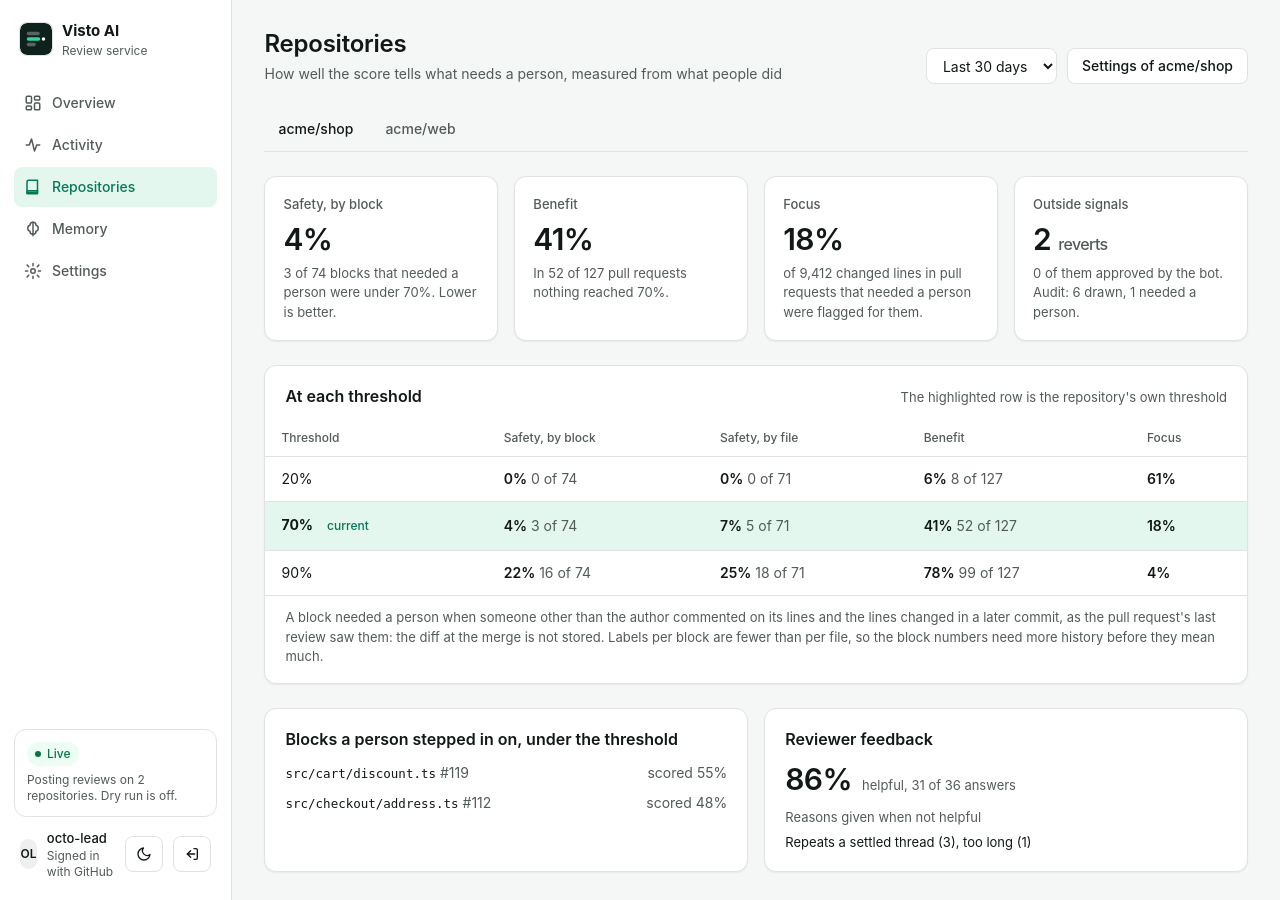
Scenario: the blocks stepped in on and the feedback are listed, and their absence said
expect the text "#119" is shown: met, box [440,764,469,780]
expect the text "scored 55%" is shown: met, box [647,762,727,782]
Select "Last 90 days" in the dropdown named "Window" at (991, 66), box [926,48,1057,84]
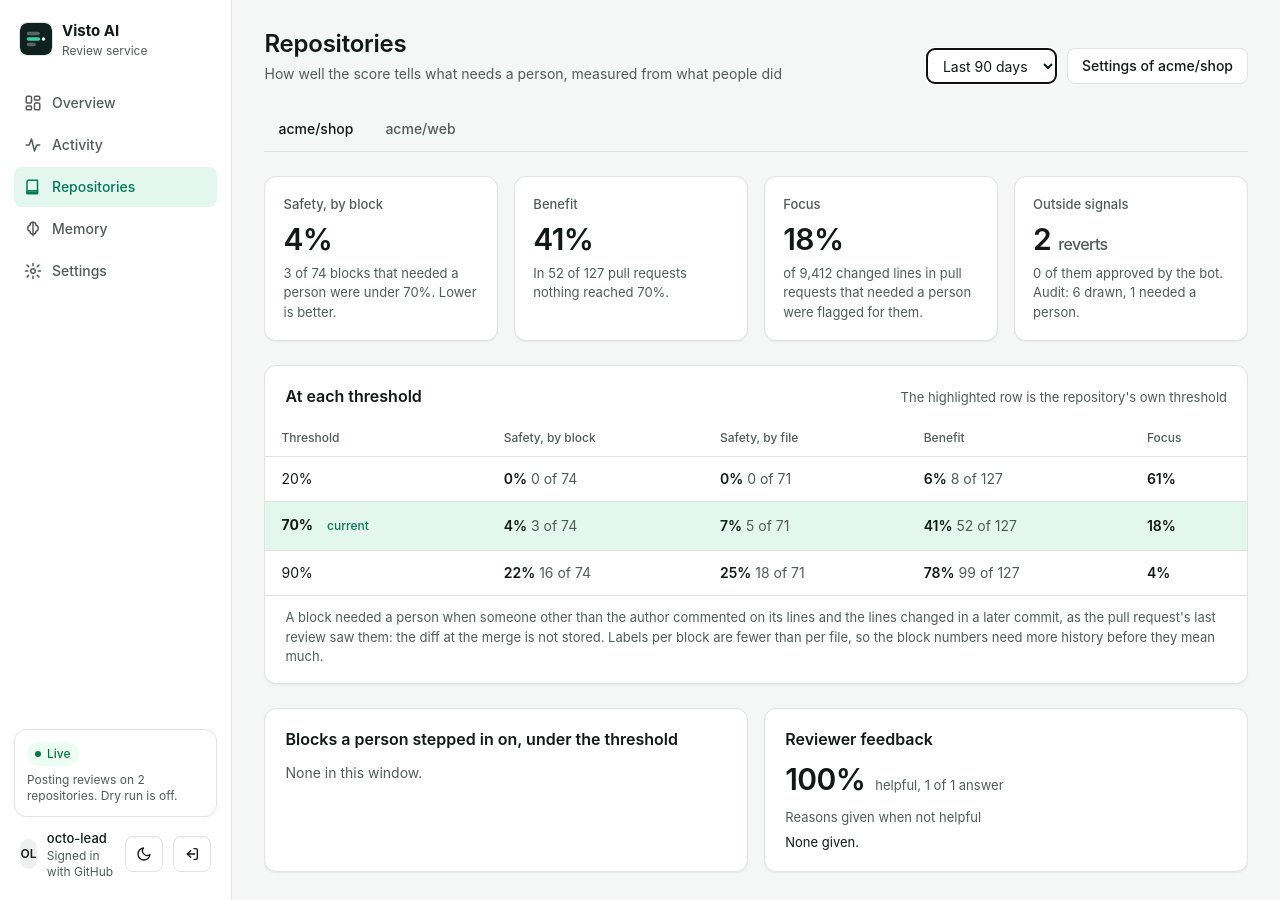
expect the text "None in this window." is shown: met, box [286,764,422,780]
expect the text "helpful, 1 of 1 answer" is shown: met, box [875,776,1004,795]
expect the text "None given." is shown: met, box [785,834,859,850]
Select "Since install" in the dropdown named "Window" at (991, 66), box [926,48,1057,84]
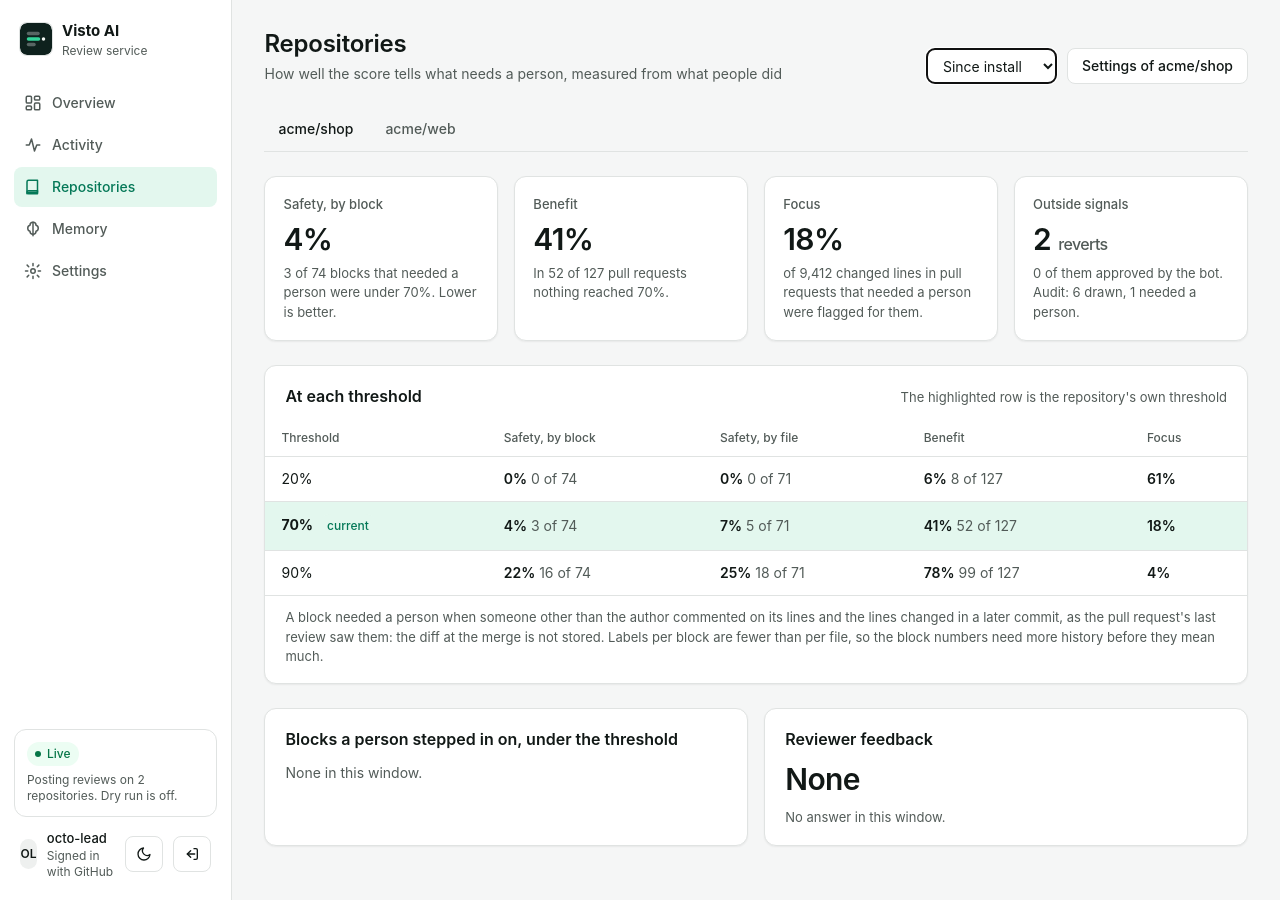
expect the text "No answer in this window." is shown: met, box [785,808,945,824]
expect the text "None" is shown: met, box [785,760,860,796]
